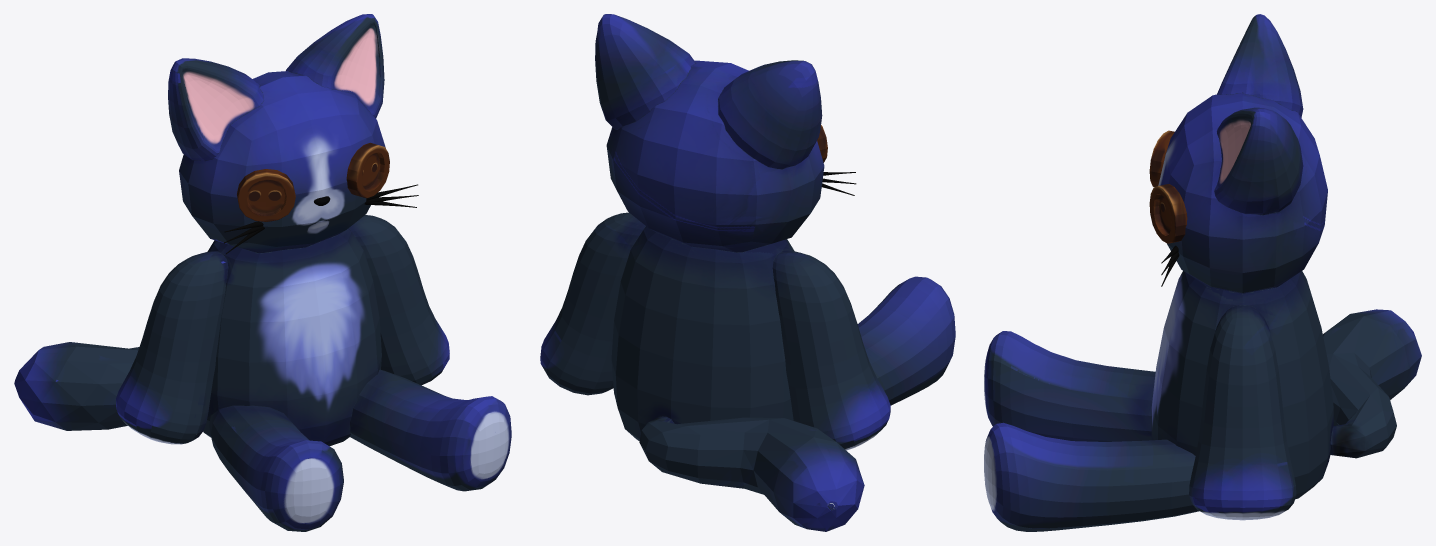
The model's file is CatPlushieArcadeTexture.fbx.
3 views of the same model, side by side, from view 1: azimuth 30°, elevation 25°; view 2: azimuth 150°, elevation 25°; view 3: azimuth 270°, elevation 25° (orthographic). The views are drawn at different scales.
Visible parts, largest first — view 1: KatHead, KatEyes, NurbsPath.002; view 2: KatHead; view 3: KatHead, KatEyes.
Part boxes in pixels (x1,y1,x2,y2): KatHead: [14, 14, 511, 531]; KatEyes: [237, 142, 389, 221]; NurbsPath.002: [224, 184, 418, 254]; KatHead: [540, 14, 955, 531]; KatHead: [984, 14, 1421, 531]; KatEyes: [1149, 130, 1187, 243].
Size of the model in its own units: 415 by 436 by 412.
3 materials, 2 textured.
